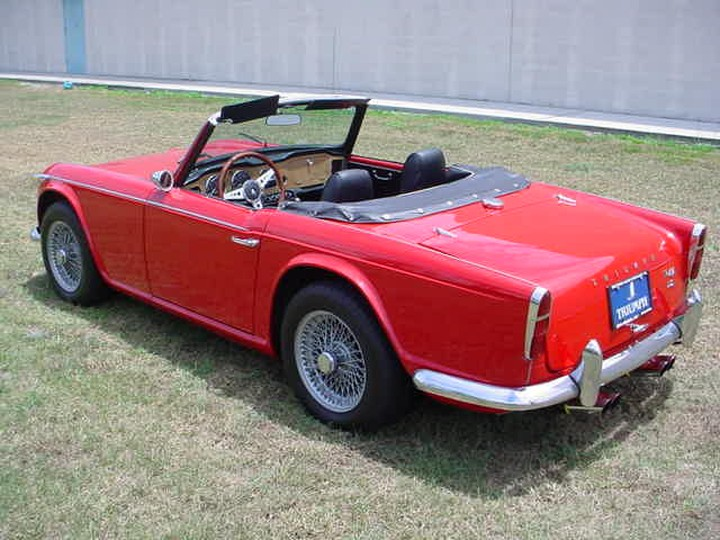car: (38, 106, 707, 427)
